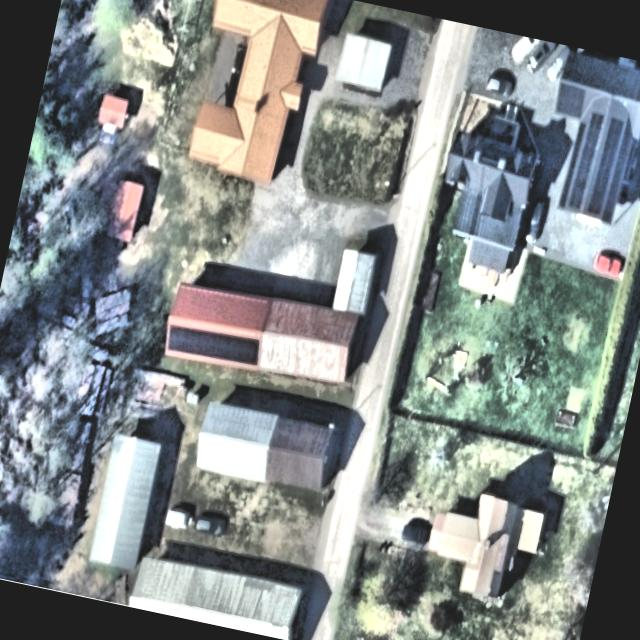roof_pv: (160, 317, 267, 375), (563, 102, 607, 218), (586, 113, 625, 220), (552, 75, 590, 124)
